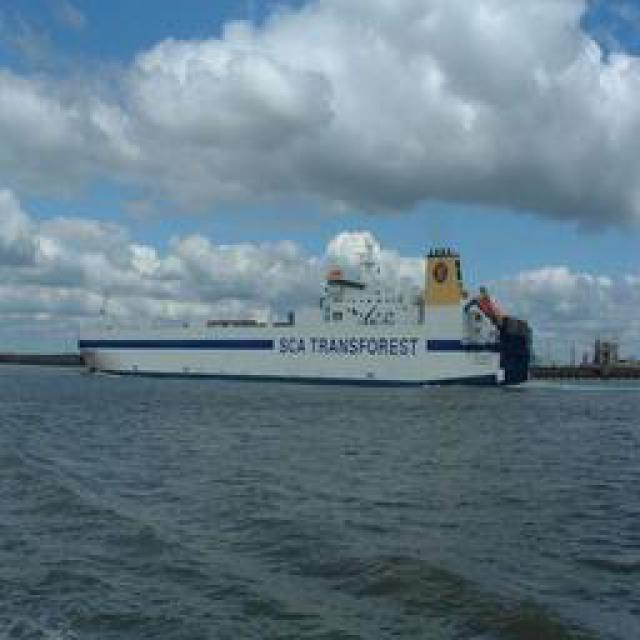Ship: (97, 237, 527, 387)
